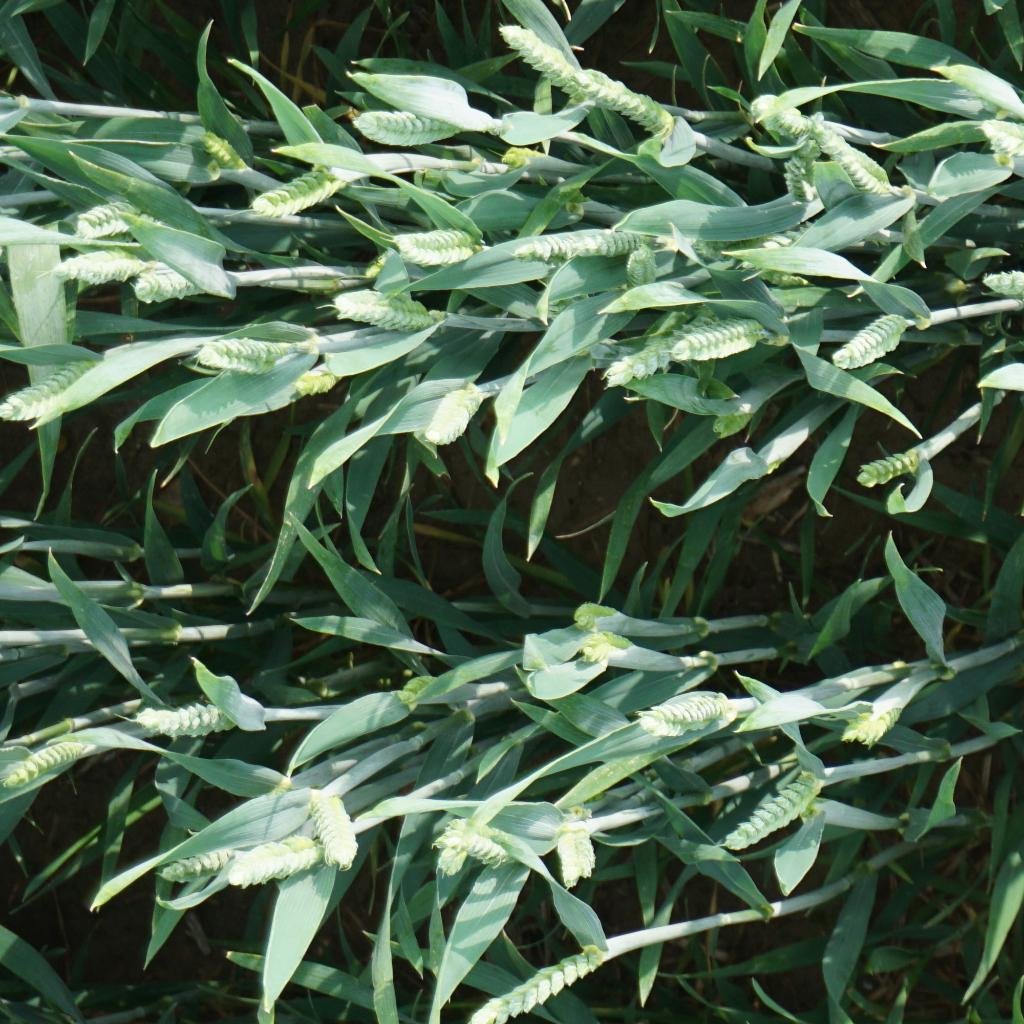0-0: (467, 938, 607, 1024), (600, 310, 733, 391), (571, 60, 702, 135), (489, 21, 590, 112), (0, 344, 113, 424), (719, 770, 827, 850), (805, 114, 891, 201), (683, 221, 838, 265), (0, 729, 103, 794), (248, 153, 345, 221), (509, 227, 647, 269), (226, 832, 326, 889), (332, 281, 437, 334), (831, 307, 915, 373), (636, 686, 740, 739), (430, 809, 521, 869), (189, 331, 304, 377), (304, 782, 360, 876), (352, 105, 468, 150), (128, 705, 262, 742), (668, 320, 778, 364), (422, 381, 491, 447), (133, 266, 239, 305), (743, 87, 812, 145), (54, 247, 150, 288), (387, 229, 485, 269), (72, 192, 153, 240), (837, 693, 906, 749), (782, 138, 825, 222), (152, 848, 245, 886), (854, 445, 929, 489), (427, 814, 475, 882), (553, 821, 598, 892), (195, 122, 250, 178), (290, 353, 346, 397), (578, 628, 636, 668), (974, 114, 1024, 160), (742, 262, 816, 293), (568, 599, 622, 634), (619, 246, 661, 290), (982, 266, 1024, 309), (394, 671, 442, 704), (501, 143, 540, 172)
